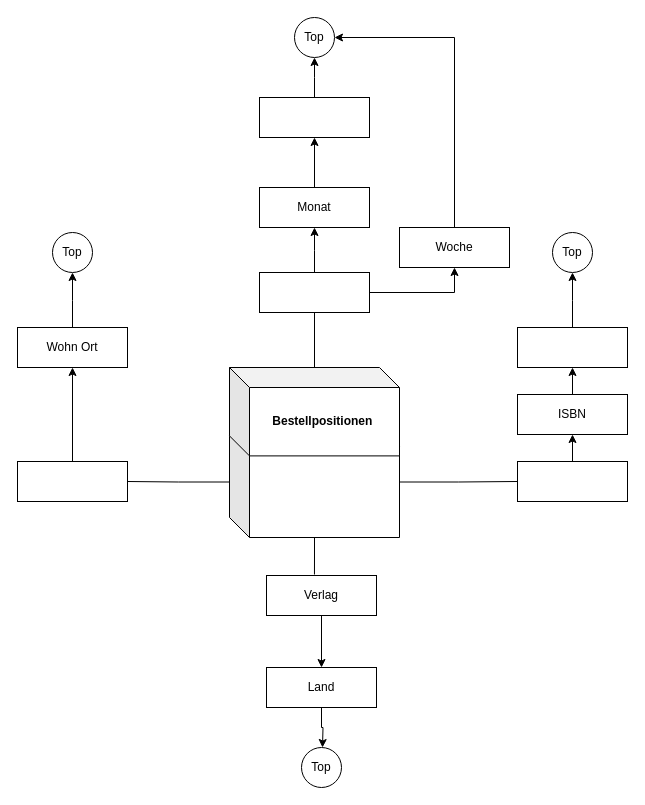
Some shapes in this 645 by 805 pixel diagram are drawn without their labels. Here are the shapes that lost their labels. From the top down, the centre of each, then its label:
At (314,117): "Jahr".
At (314,292): "Tag".
At (572,347): "Kategorie".
At (72,481): "Kunde".
At (314,481): "Menge Einzeilpreis Rabat Gesamtpreis".
At (572,481): "Buch".
